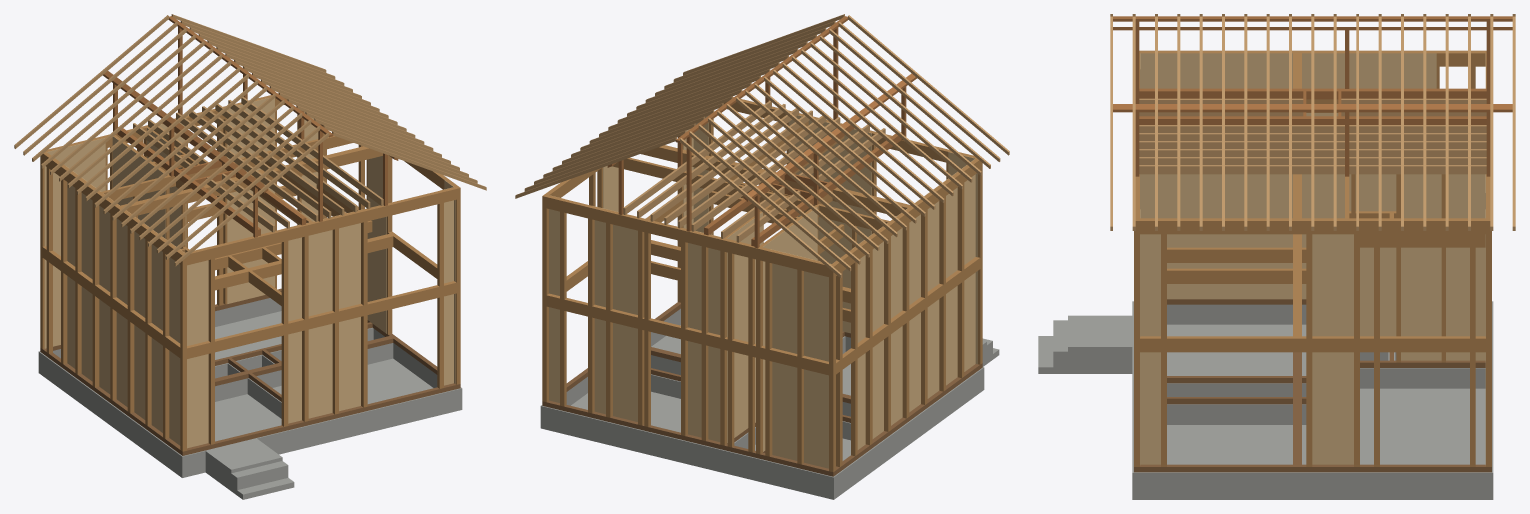
The model's file is structure_W.glb.
3 views of the same model, side by side, from view 1: azimuth 30°, elevation 25°; view 2: azimuth 150°, elevation 25°; view 3: azimuth 270°, elevation 25° (orthographic). The views are drawn at different scales.
Parts seen in each view (by area): view 1: foundation:raft:slab, structure:F1:beam_B01, structure:F2:beam_B01, foundation:existing_plinth:south, structure:F1:bearing_wall_BW03, structure:F2:bearing_wall_BW03, structure:F1:beam_B04, structure:F1:bearing_wall_BW02, structure:F1:bearing_wall_BW05, foundation:entrance_supports:porch, structure:F1:sill_B01, structure:F2:beam_B05 (+125 smaller); view 2: foundation:raft:slab, structure:F2:beam_B02, structure:F1:beam_B02, foundation:existing_plinth:north, structure:F1:bearing_wall_BW11, structure:F1:bearing_wall_BW08, structure:F1:bearing_wall_BW12, structure:F2:bearing_wall_BW11, structure:F1:beam_B04, structure:F2:bearing_wall_BW12, structure:F2:bearing_wall_BW08, structure:F1:sill_B02 (+136 smaller); view 3: foundation:raft:slab, structure:F1:beam_B03, structure:F2:beam_B03, foundation:existing_plinth:east, structure:F1:bearing_wall_BW14, structure:F2:bearing_wall_BW14, structure:F1:bearing_wall_BW25, structure:F1:bearing_wall_BW26, foundation:entrance_supports:porch, structure:attic:trimmer_west, structure:F1:bearing_wall_BW17, structure:F1:bearing_wall_BW16 (+83 smaller).
Part boxes in pixels (x1=…): foundation:raft:slab: x1=38, y1=311, x2=462, y2=477; structure:F1:beam_B01: x1=180, y1=281, x2=460, y2=359; structure:F2:beam_B01: x1=180, y1=186, x2=460, y2=266; foundation:existing_plinth:south: x1=179, y1=387, x2=462, y2=467; structure:F1:bearing_wall_BW03: x1=308, y1=323, x2=332, y2=418; structure:F2:bearing_wall_BW03: x1=306, y1=216, x2=333, y2=316; structure:F1:beam_B04: x1=42, y1=246, x2=180, y2=357; structure:F1:bearing_wall_BW02: x1=339, y1=317, x2=360, y2=411; structure:F1:bearing_wall_BW05: x1=187, y1=354, x2=208, y2=448; foundation:entrance_supports:porch: x1=205, y1=438, x2=282, y2=485; structure:F1:sill_B01: x1=180, y1=383, x2=460, y2=455; structure:F2:beam_B05: x1=120, y1=146, x2=382, y2=215; foundation:raft:slab: x1=540, y1=325, x2=984, y2=499; structure:F2:beam_B02: x1=542, y1=194, x2=835, y2=278; structure:F1:beam_B02: x1=542, y1=293, x2=835, y2=376; foundation:existing_plinth:north: x1=540, y1=405, x2=836, y2=488; structure:F1:bearing_wall_BW11: x1=772, y1=361, x2=797, y2=460; structure:F1:bearing_wall_BW08: x1=613, y1=323, x2=637, y2=421; structure:F1:bearing_wall_BW12: x1=804, y1=369, x2=828, y2=468; structure:F2:bearing_wall_BW11: x1=770, y1=249, x2=801, y2=353; structure:F1:beam_B04: x1=836, y1=257, x2=980, y2=374; structure:F2:bearing_wall_BW12: x1=804, y1=257, x2=830, y2=361; structure:F2:bearing_wall_BW08: x1=611, y1=210, x2=641, y2=314; structure:F1:sill_B02: x1=542, y1=400, x2=835, y2=476; foundation:raft:slab: x1=1132, y1=324, x2=1493, y2=499; structure:F1:beam_B03: x1=1140, y1=336, x2=1485, y2=352; structure:F2:beam_B03: x1=1140, y1=218, x2=1485, y2=234; foundation:existing_plinth:east: x1=1139, y1=472, x2=1486, y2=486; structure:F1:bearing_wall_BW14: x1=1312, y1=352, x2=1353, y2=464; structure:F2:bearing_wall_BW14: x1=1312, y1=234, x2=1353, y2=336; structure:F1:bearing_wall_BW25: x1=1401, y1=247, x2=1441, y2=360; structure:F1:bearing_wall_BW26: x1=1446, y1=247, x2=1485, y2=360; foundation:entrance_supports:porch: x1=1068, y1=315, x2=1132, y2=367; structure:attic:trimmer_west: x1=1139, y1=88, x2=1486, y2=99; structure:F1:bearing_wall_BW17: x1=1225, y1=174, x2=1268, y2=299; structure:F1:bearing_wall_BW16: x1=1181, y1=174, x2=1224, y2=299.
Bounding box in the file's own units: 9.09 × 8.88 × 9.63.
